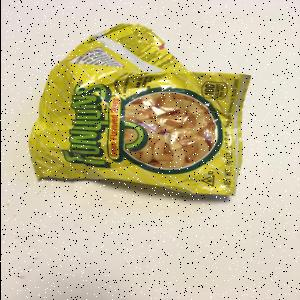Trash: (29, 24, 253, 198)
